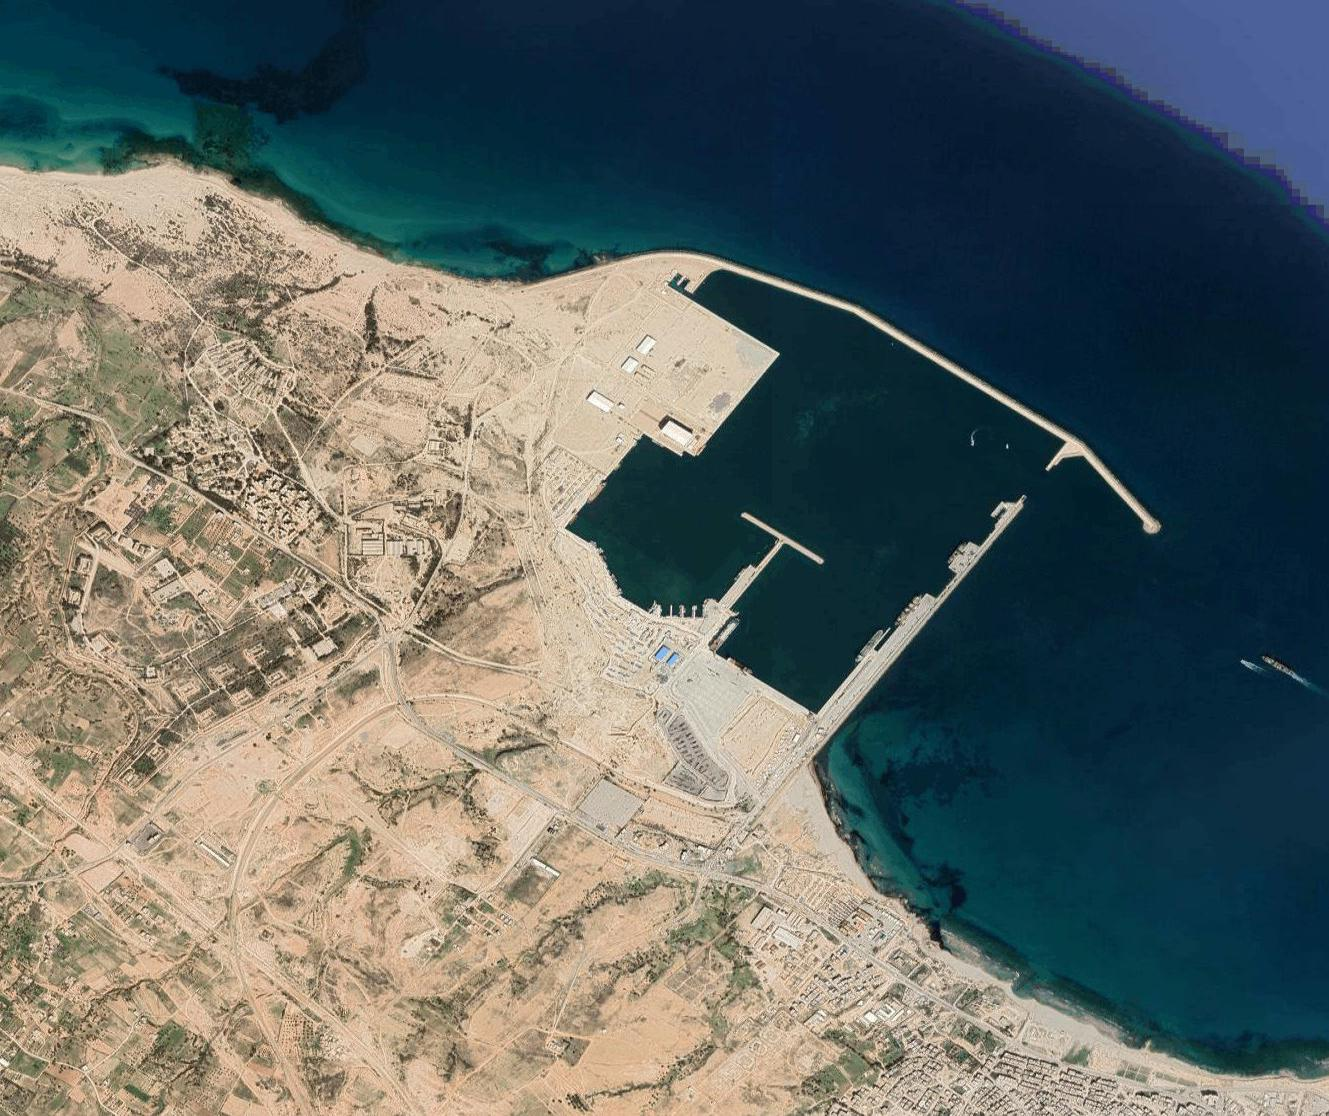harbor: (543, 235, 1040, 728)
